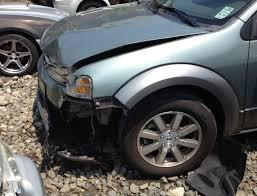bonnet-dent: (37, 13, 151, 65)
front-bumper-dent: (44, 93, 125, 154)
